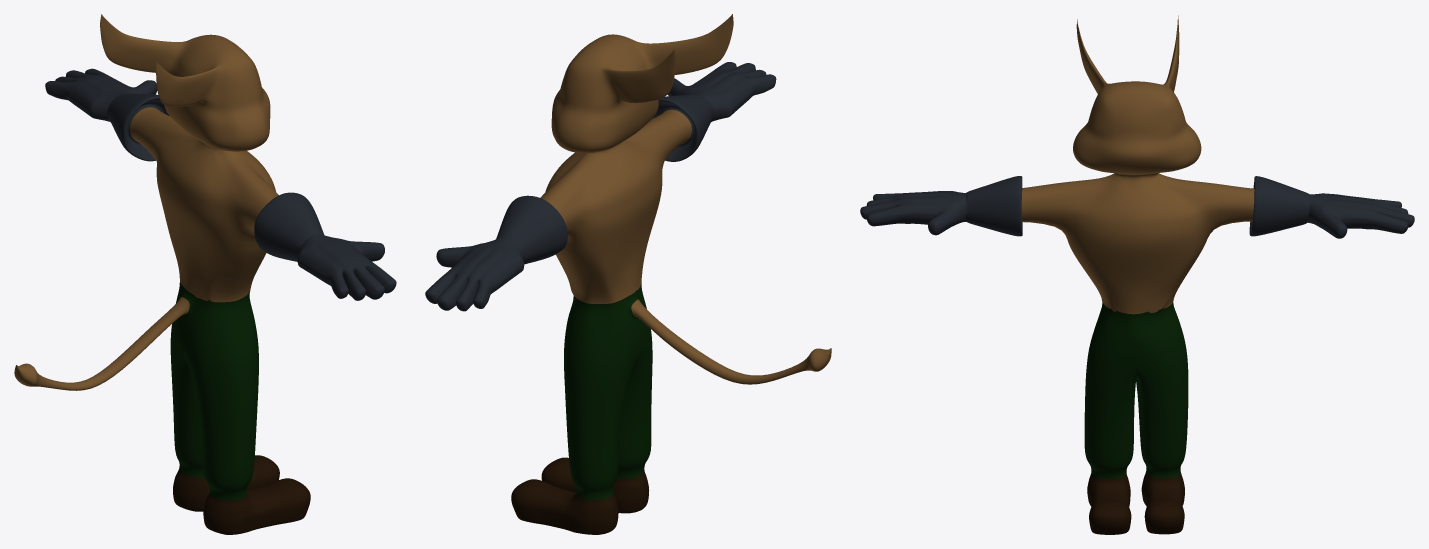
Rendered from Ratchet.fbx.
The picture shows the model from 3 angles, left to right: view 1: azimuth 30°, elevation 25°; view 2: azimuth 150°, elevation 25°; view 3: azimuth 270°, elevation 25°; orthographic projection. The views are drawn at different scales.
Visible parts, largest first — view 1: polySurface24; view 2: polySurface24; view 3: polySurface24.
Part boxes in pixels (x1,y1,x2,y2): polySurface24: (14,14,396,534); polySurface24: (425,14,831,534); polySurface24: (860,15,1414,534).
Size of the model in its own units: 6.63 by 11.18 by 12.41.
